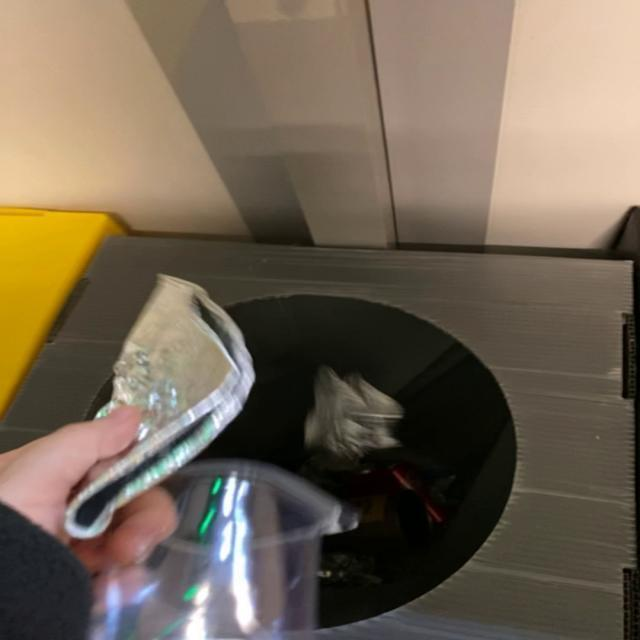Bin: (1, 237, 638, 640)
Metal: (63, 274, 254, 539), (304, 365, 404, 471)
